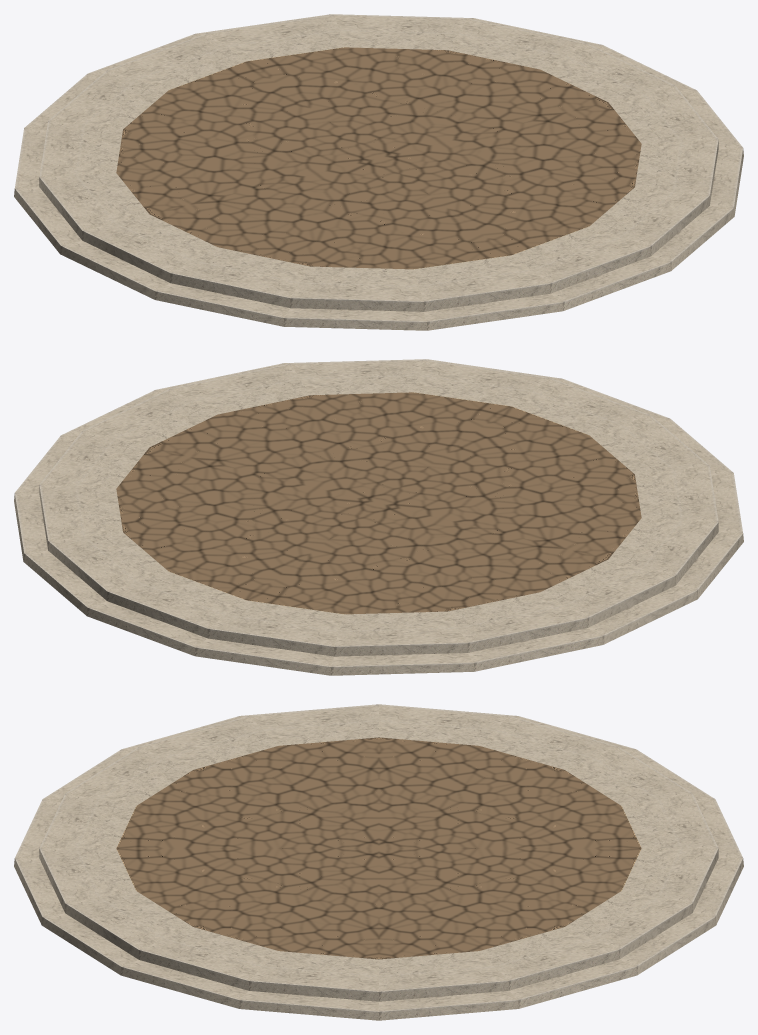
The model's file is Tower_Base_Base_Art.glb.
3 views of the same model, one above another, from view 1: azimuth 30°, elevation 25°; view 2: azimuth 150°, elevation 25°; view 3: azimuth 270°, elevation 25° (orthographic).
Parts seen in each view (by area): view 1: Tower_Base_Base_Art; view 2: Tower_Base_Base_Art; view 3: Tower_Base_Base_Art.
Boxes of the visible parts, left/top/right/bottom form: Tower_Base_Base_Art: left=14, top=14, right=743, bottom=330; Tower_Base_Base_Art: left=14, top=359, right=743, bottom=675; Tower_Base_Base_Art: left=14, top=704, right=743, bottom=1020.
Bounding box in the file's own units: 15.25 × 0.4155 × 15.25.
Materials: 1 (1 with a texture image).
